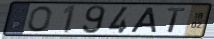1: (62, 4, 77, 35)
4: (107, 5, 130, 35)
9: (82, 5, 107, 35)
A: (129, 6, 159, 34)
O: (26, 5, 53, 33)
T: (165, 8, 188, 35)
